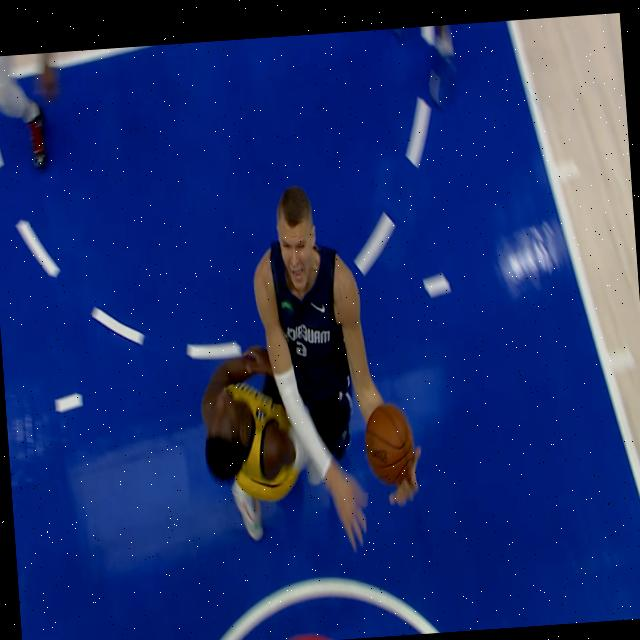foul: (148, 131, 497, 622)
